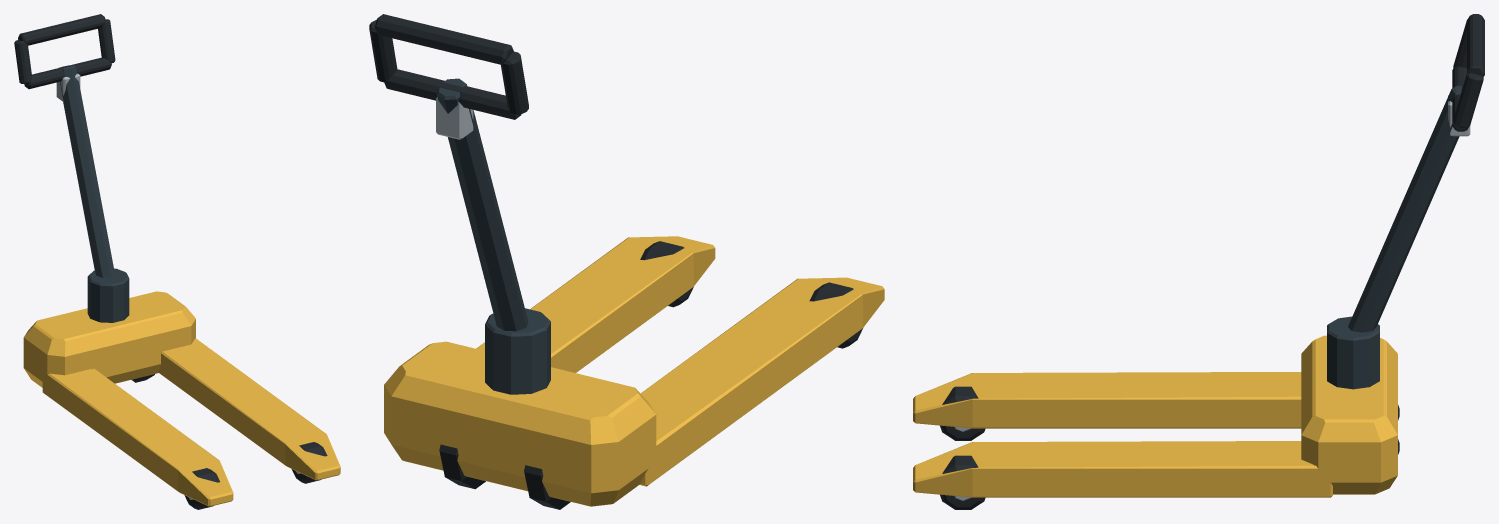
File: b14_manual_pallet_jack.glb
The picture shows the model from 3 angles, left to right: view 1: azimuth 30°, elevation 25°; view 2: azimuth 150°, elevation 25°; view 3: azimuth 270°, elevation 25°; orthographic projection. The views are drawn at different scales.
Visible parts, largest first — view 1: b14_manual_pallet_jack; view 2: b14_manual_pallet_jack; view 3: b14_manual_pallet_jack.
Boxes of the visible parts, x1,y1,x2,y2 form: b14_manual_pallet_jack: (14, 14, 340, 509); b14_manual_pallet_jack: (369, 14, 884, 509); b14_manual_pallet_jack: (913, 14, 1484, 509).
Size of the model in its own units: 0.61 by 1.28 by 1.54.
